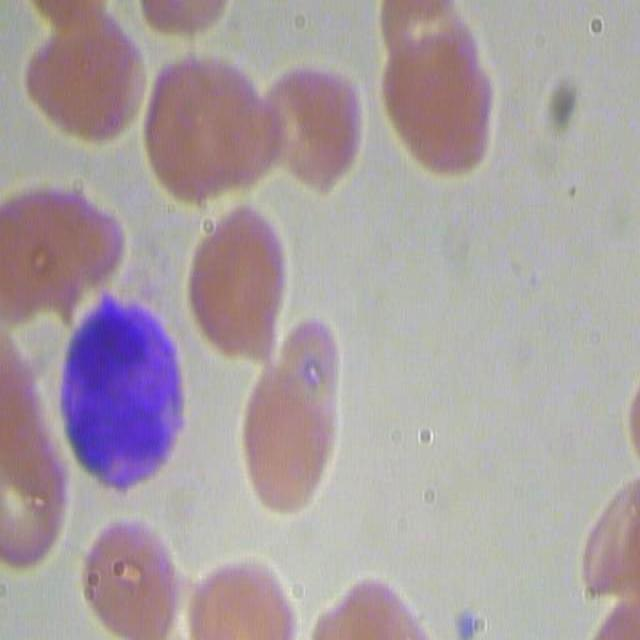RBC: (242, 316, 336, 512), (185, 211, 300, 363), (375, 45, 507, 174), (3, 179, 129, 309), (22, 21, 148, 142), (257, 56, 365, 194), (3, 328, 63, 568), (151, 71, 265, 194), (80, 504, 178, 638), (189, 547, 296, 640), (312, 568, 431, 640), (567, 486, 640, 590), (363, 0, 478, 57)
WBC: (65, 295, 189, 498)
platelets: (456, 611, 482, 640)
